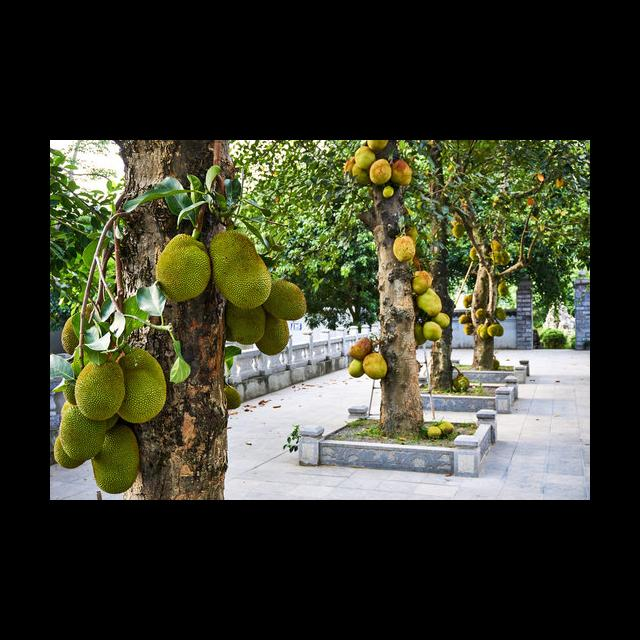mit: (208, 232, 275, 311), (156, 234, 210, 304), (120, 349, 169, 425), (93, 423, 141, 495), (76, 355, 123, 421), (60, 406, 106, 462), (224, 299, 269, 347), (269, 279, 310, 323), (61, 306, 97, 356), (259, 319, 290, 357), (60, 360, 85, 407), (52, 438, 83, 469), (360, 353, 391, 383), (388, 156, 413, 190), (415, 287, 441, 319), (391, 234, 418, 264), (411, 265, 435, 293), (369, 159, 393, 186), (421, 320, 445, 343), (356, 146, 376, 173)
